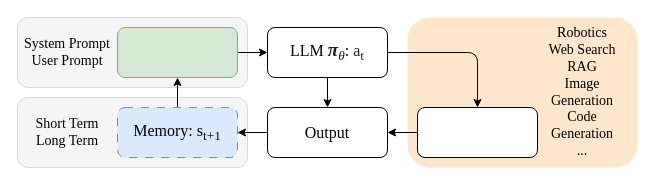
Image size: 655x185. Some labels were removed from this diagram. Here are the shapes that lost their labels. From the top down, the centre of each, then its label:
point (177, 52): Environment: s t
point (477, 132): API/Tool
